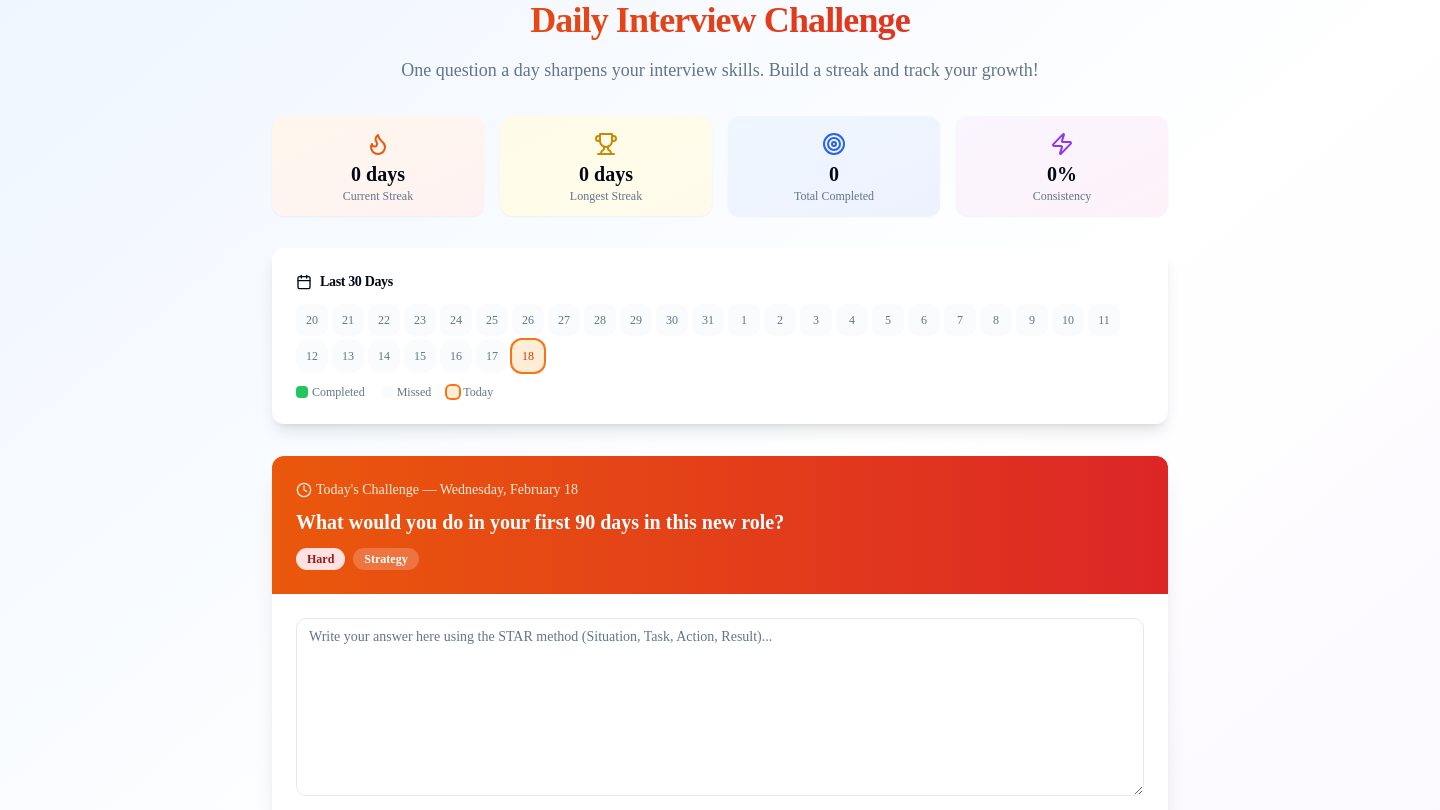
Test case: DailyChallengeClient › should enable submit button when answer has text
The image size is (1440, 810).
Replace the text in the text box with placeholder "STAR method" with "This is my detailed answer about the situation where I had to work under pressure and deliver results in a timely manner." at (720, 707), box [296,618,1144,796]
(page scrolled)
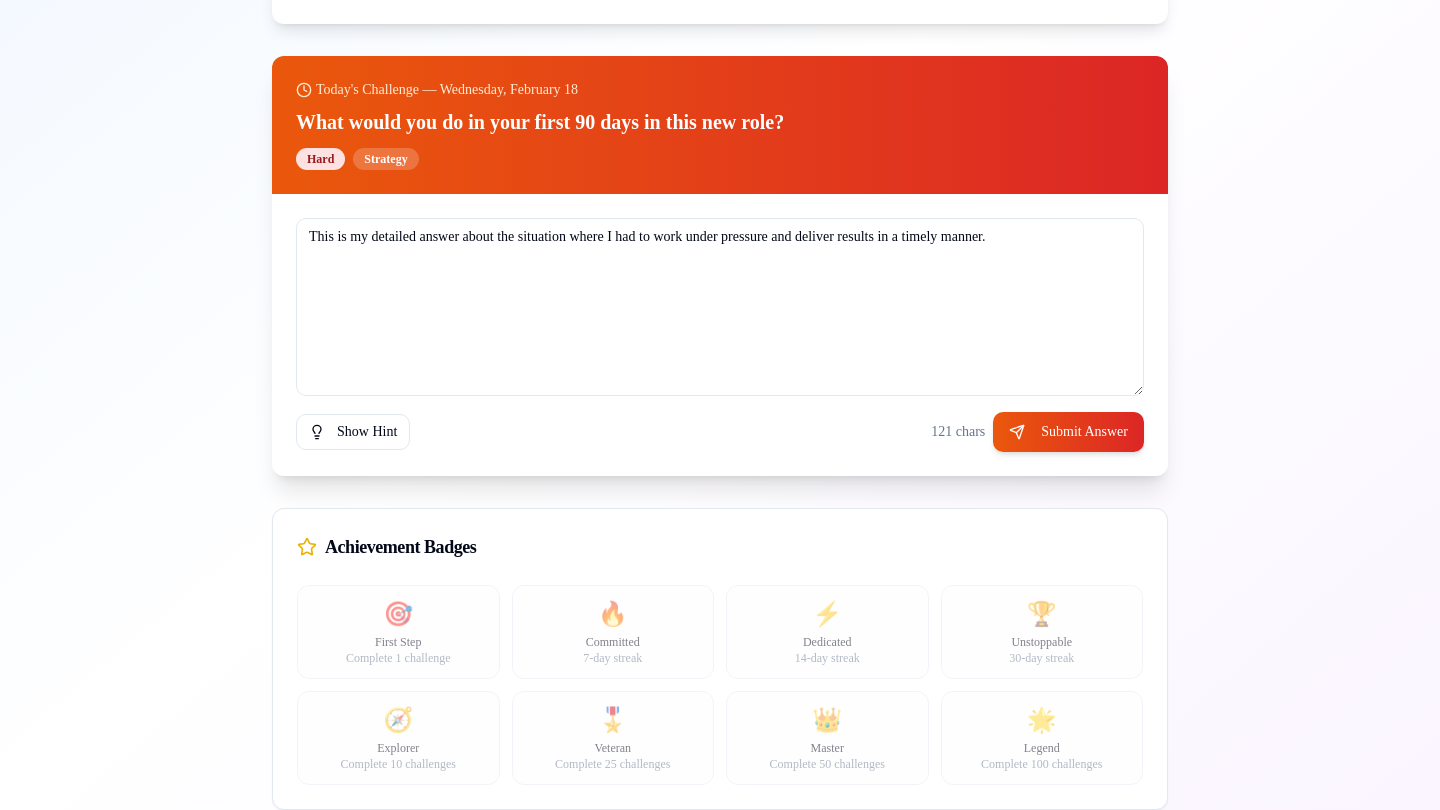
Check: the button "Submit Answer" is enabled, box [993,412,1144,452]
